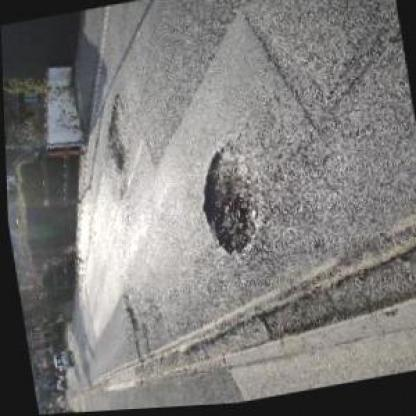pothole: (189, 138, 269, 264), (97, 90, 133, 172)
